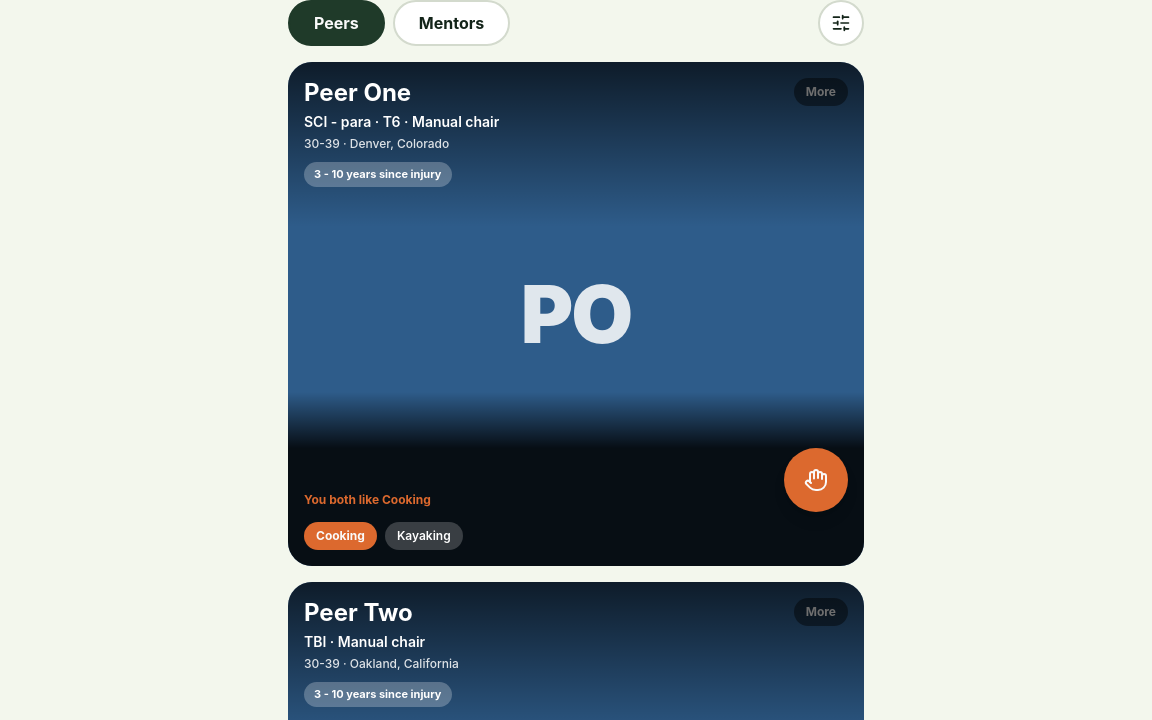
Test: filters › narrows the deck from the sheet and says how to get back
Expected: the heading "Peer One" is shown, x1=304 y1=78 x2=411 y2=107
Click the button named "Filters".
click(841, 23)  # box x1=818 y1=0 x2=864 y2=46
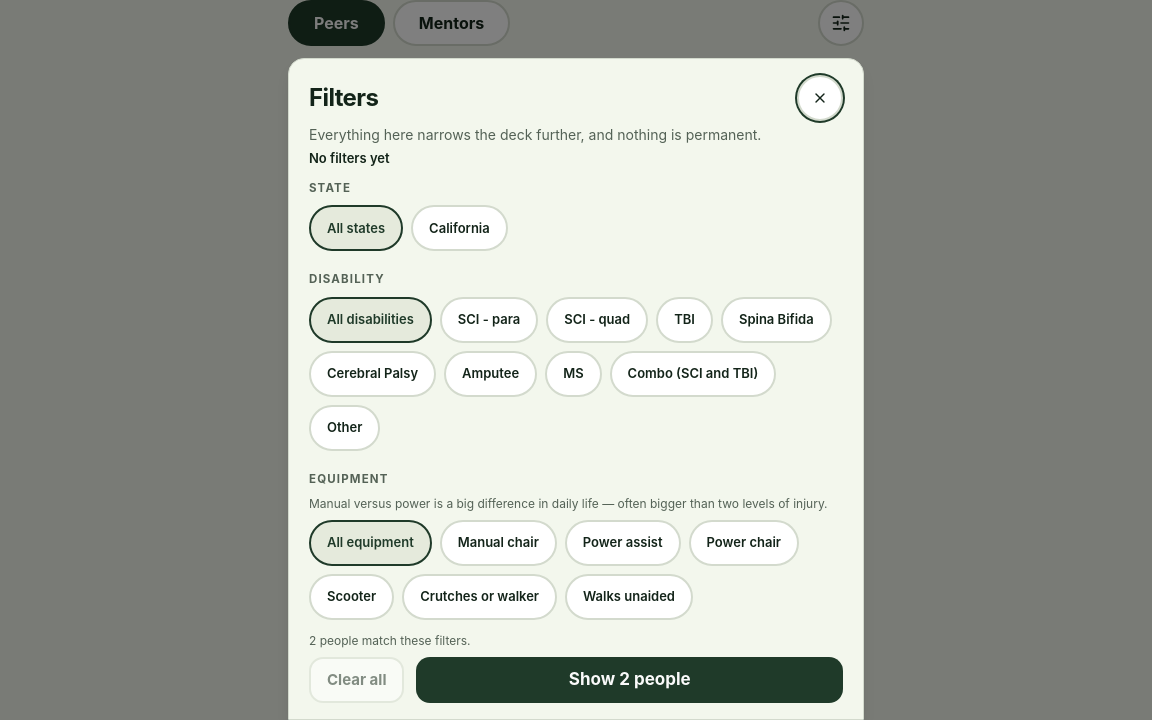
Click the button "California".
click(459, 228)  # box x1=411 y1=205 x2=508 y2=251
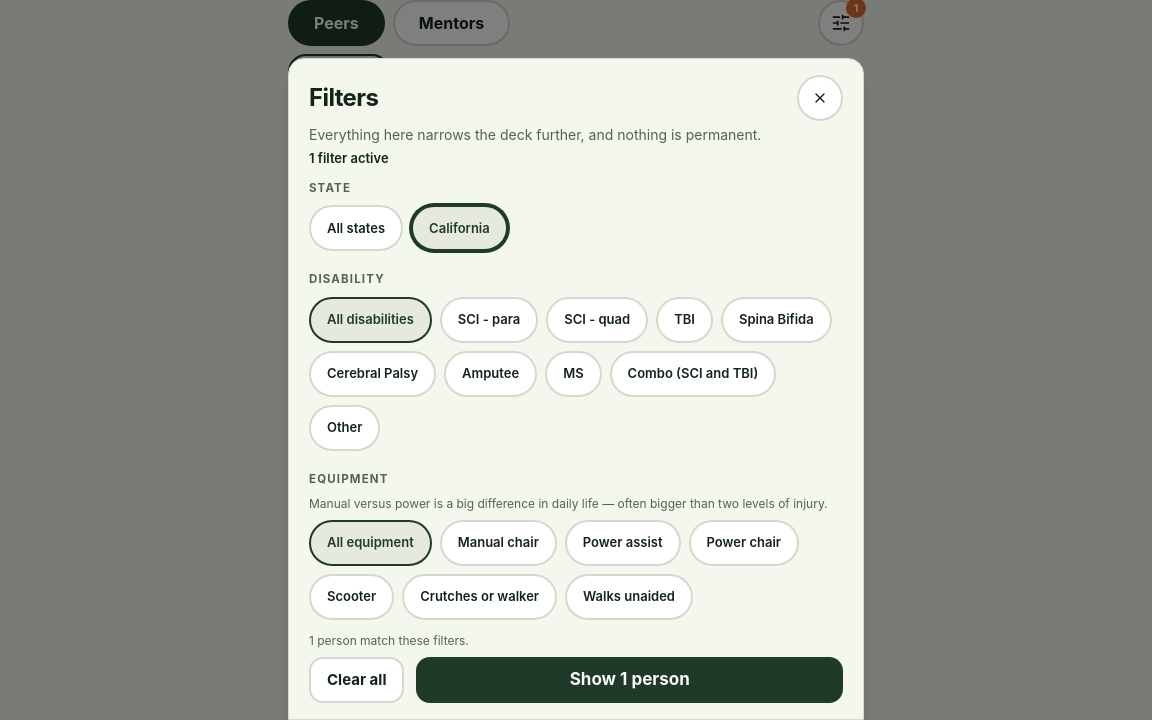
Click the button named "Close filters".
click(820, 98)  # box x1=797 y1=75 x2=843 y2=121
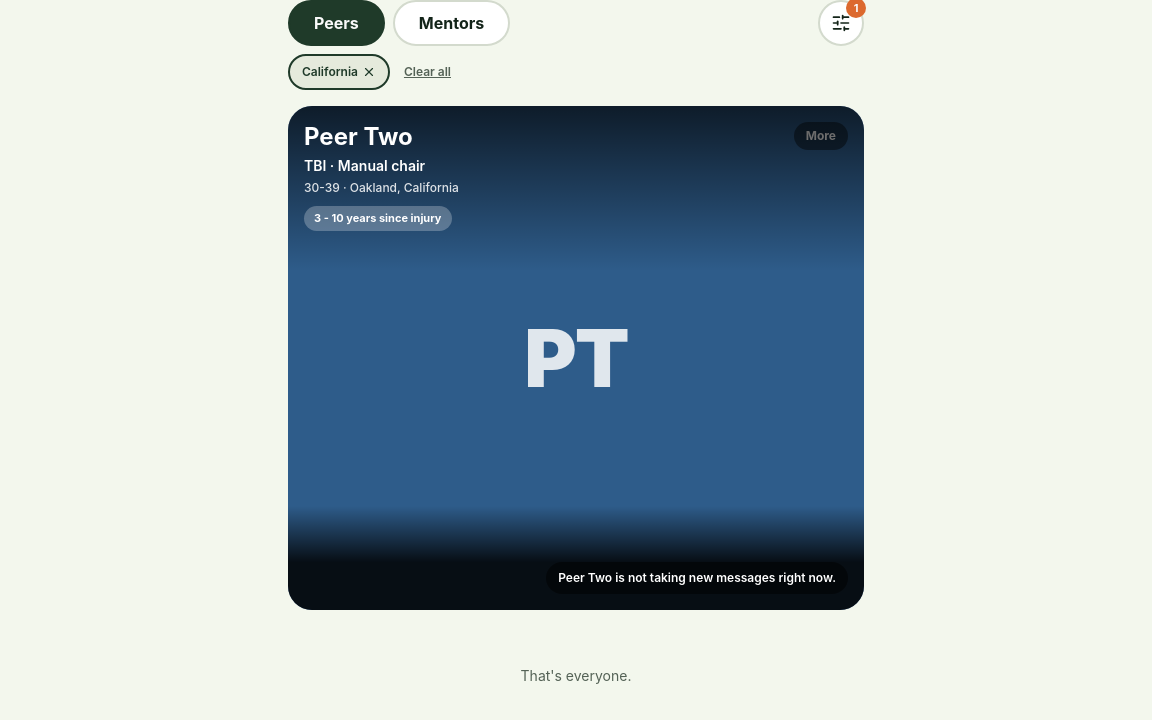
Expected: the heading "Peer Two" is shown, x1=304 y1=122 x2=413 y2=151
Expected: the heading "Peer One" is not shown
Click the button with aria-label "Remove filter California".
click(339, 72)  # box x1=288 y1=54 x2=390 y2=90
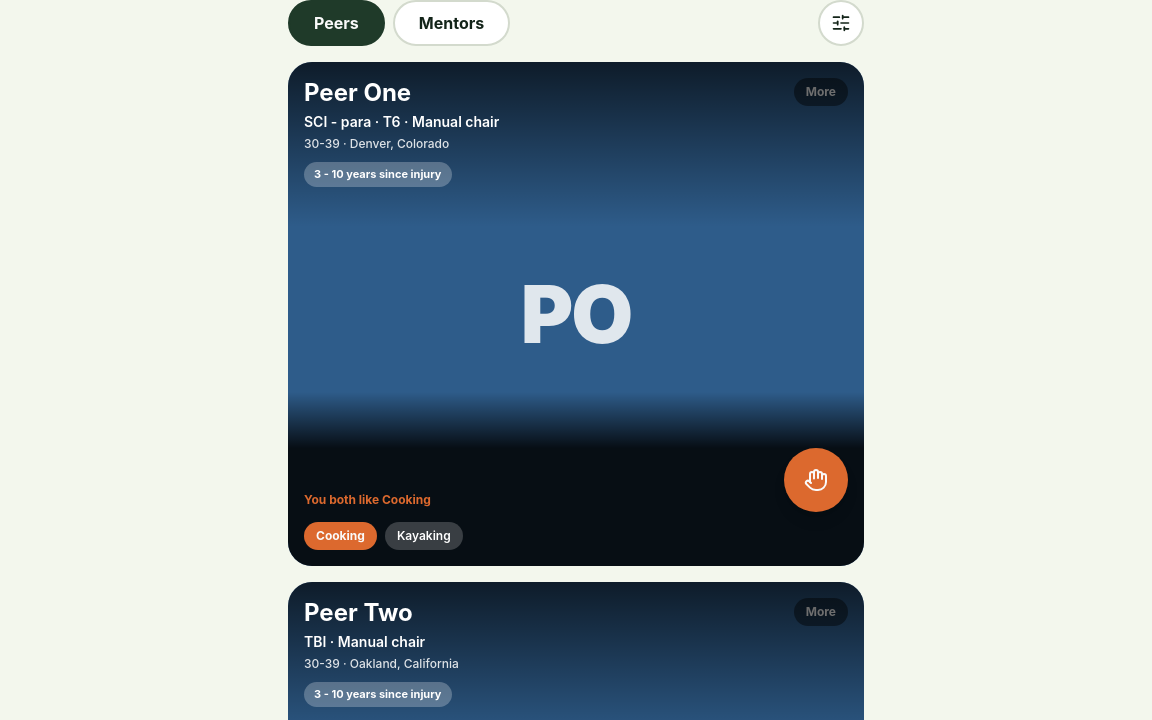
Expected: the heading "Peer One" is shown, x1=304 y1=78 x2=411 y2=107
